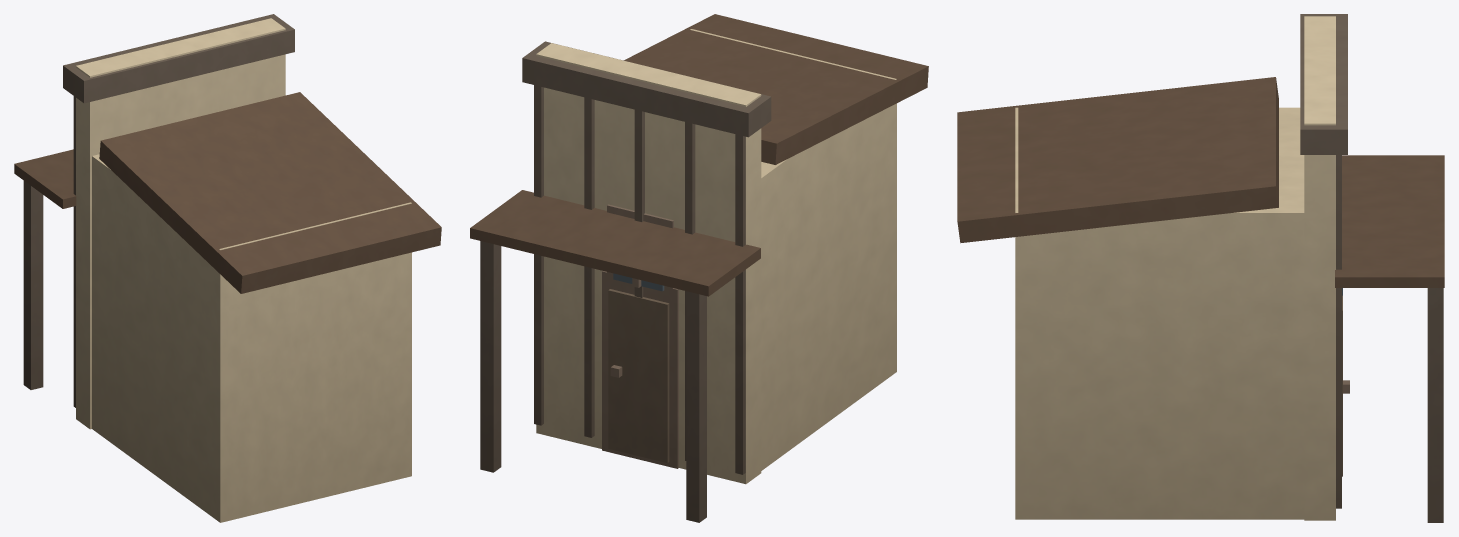
The model's file is building_house.glb.
3 views of the same model, side by side, from view 1: azimuth 30°, elevation 25°; view 2: azimuth 150°, elevation 25°; view 3: azimuth 270°, elevation 25° (orthographic). The views are drawn at different scales.
Visible parts, largest first — view 1: building_house; view 2: building_house; view 3: building_house.
Boxes of the visible parts, x1,y1,x2,y2 form: building_house: (14, 14, 441, 522); building_house: (470, 14, 928, 522); building_house: (957, 14, 1444, 522).
Size of the model in its own units: 1.45 by 2.2 by 2.45.
Materials: 1 (1 with a texture image).
